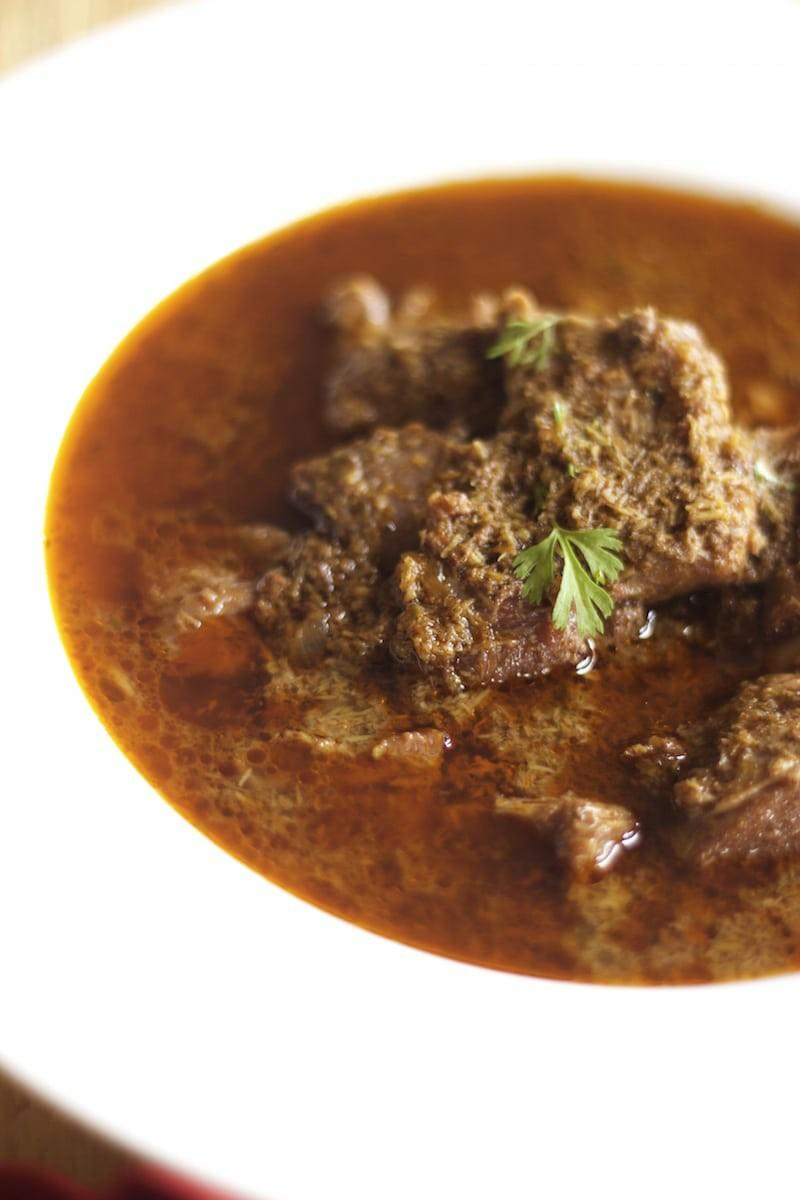MuttonCurry: (53, 174, 800, 985)
